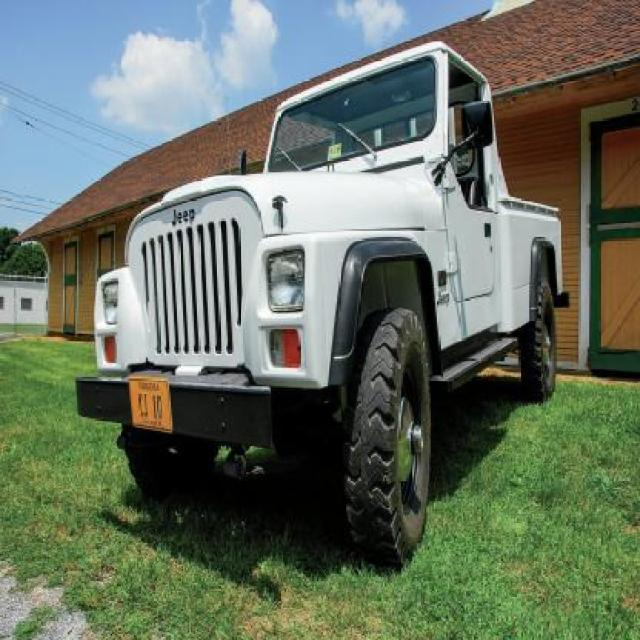Jeep: (75, 37, 570, 580)
